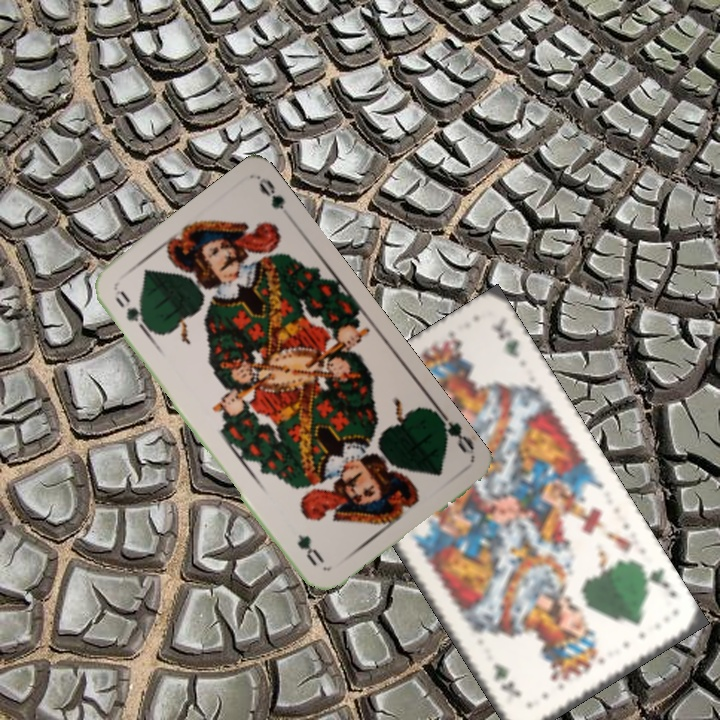GK: (638, 563, 680, 601)
GO: (432, 406, 477, 457), (111, 286, 155, 338)
